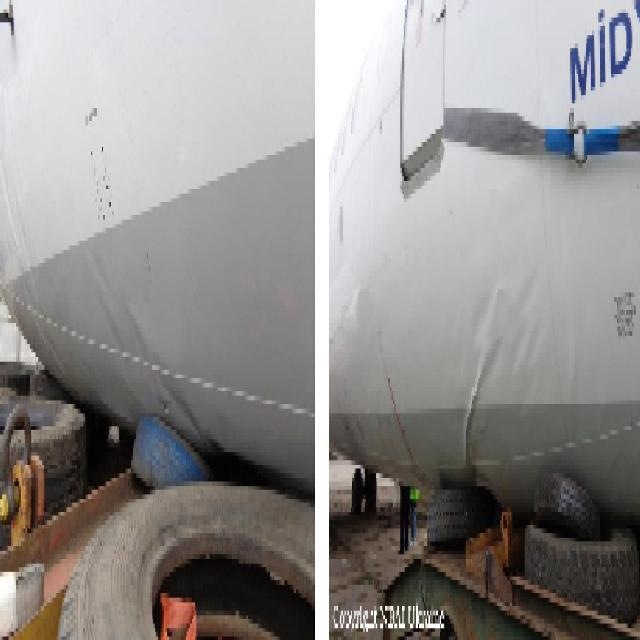dent: (79, 229, 214, 455)
